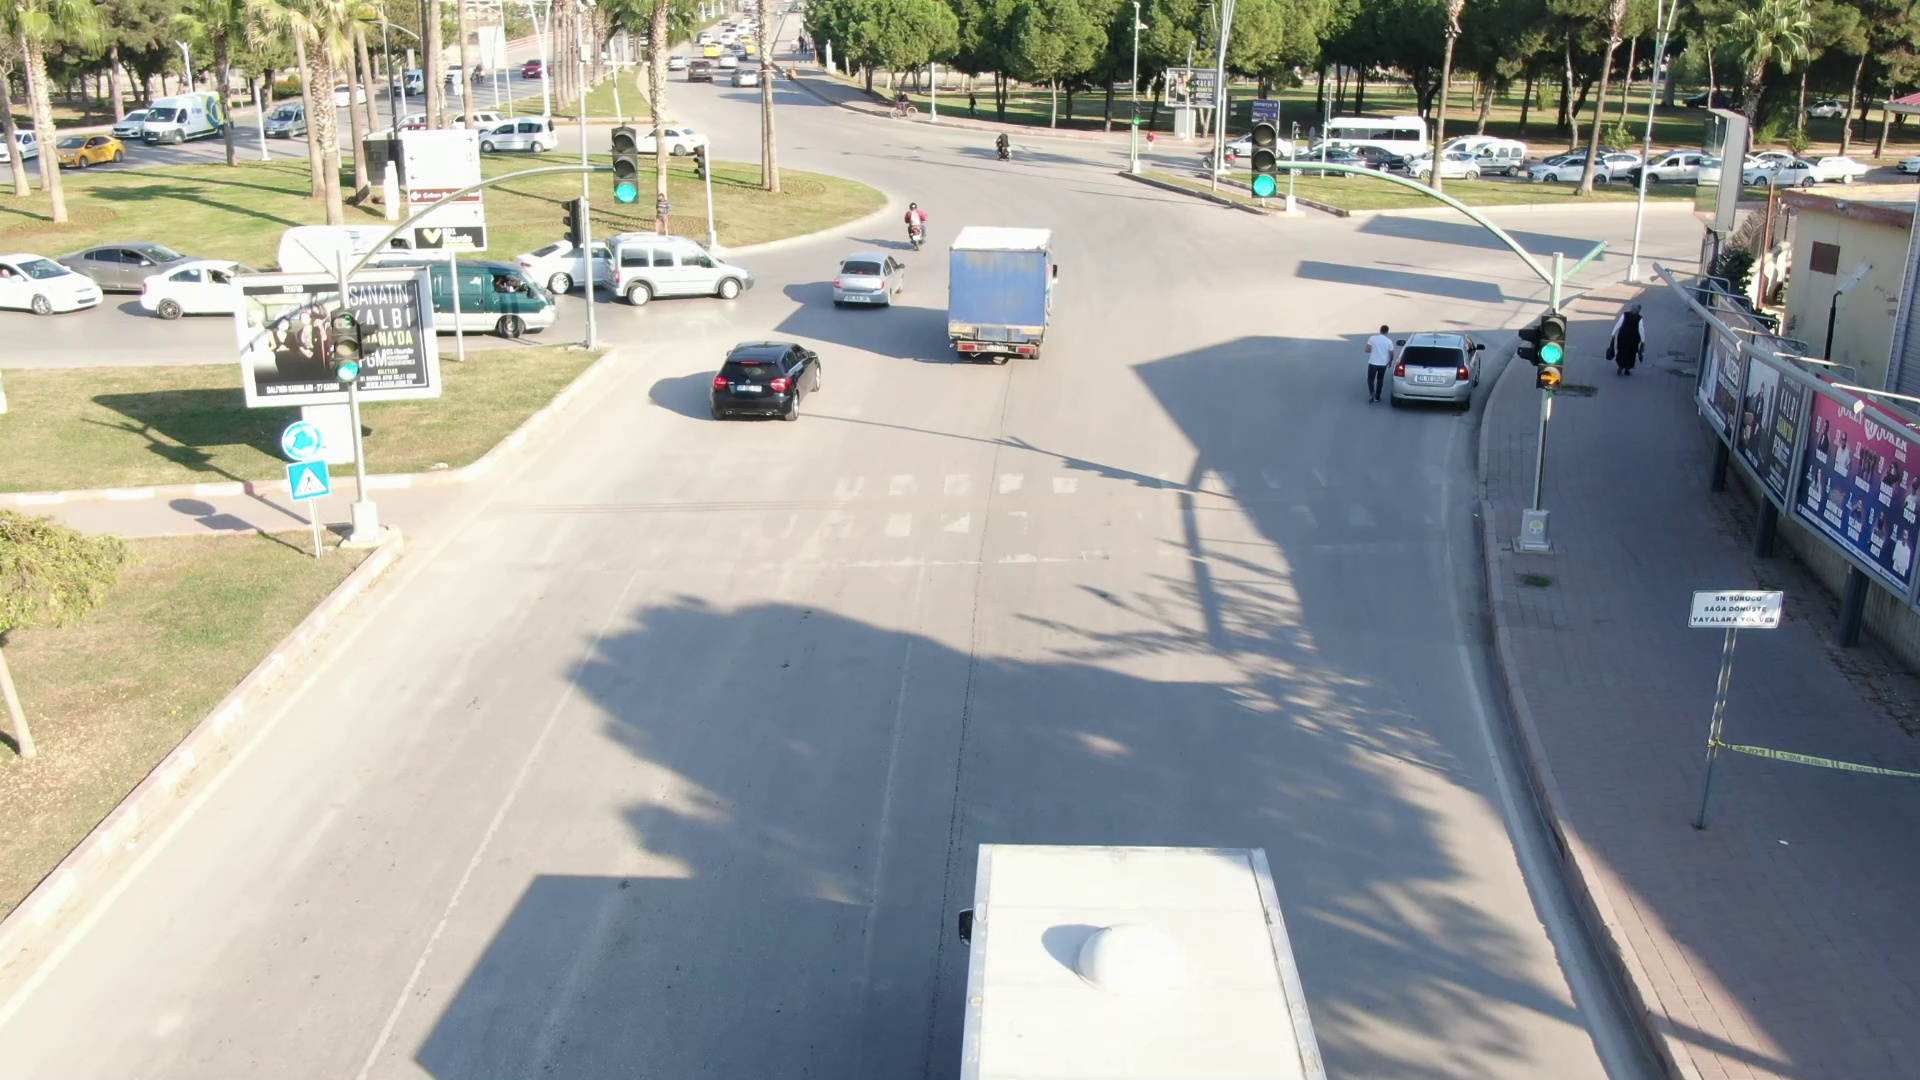car: (703, 319, 838, 437), (601, 223, 769, 308), (1389, 325, 1487, 419), (1, 246, 106, 323), (134, 82, 245, 147), (810, 249, 912, 313), (473, 114, 564, 162), (1524, 153, 1611, 188)
person: (1604, 301, 1653, 380), (1354, 318, 1392, 405)
